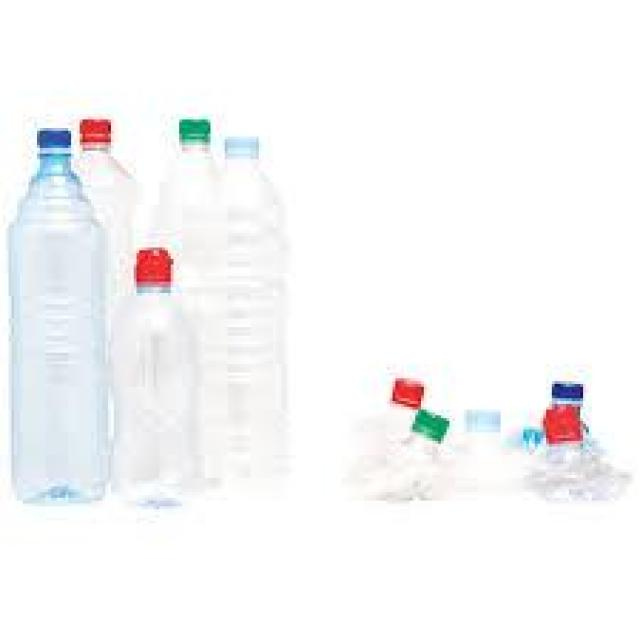bottle: (4, 123, 111, 510), (213, 127, 290, 502), (105, 239, 202, 515), (140, 90, 231, 247), (60, 109, 150, 238), (538, 399, 631, 520), (446, 406, 537, 503), (378, 396, 446, 521), (366, 375, 435, 497)
